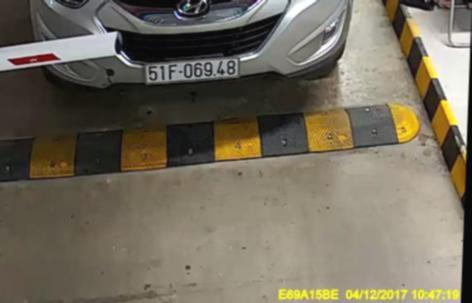License_Plate: (141, 59, 241, 80)
